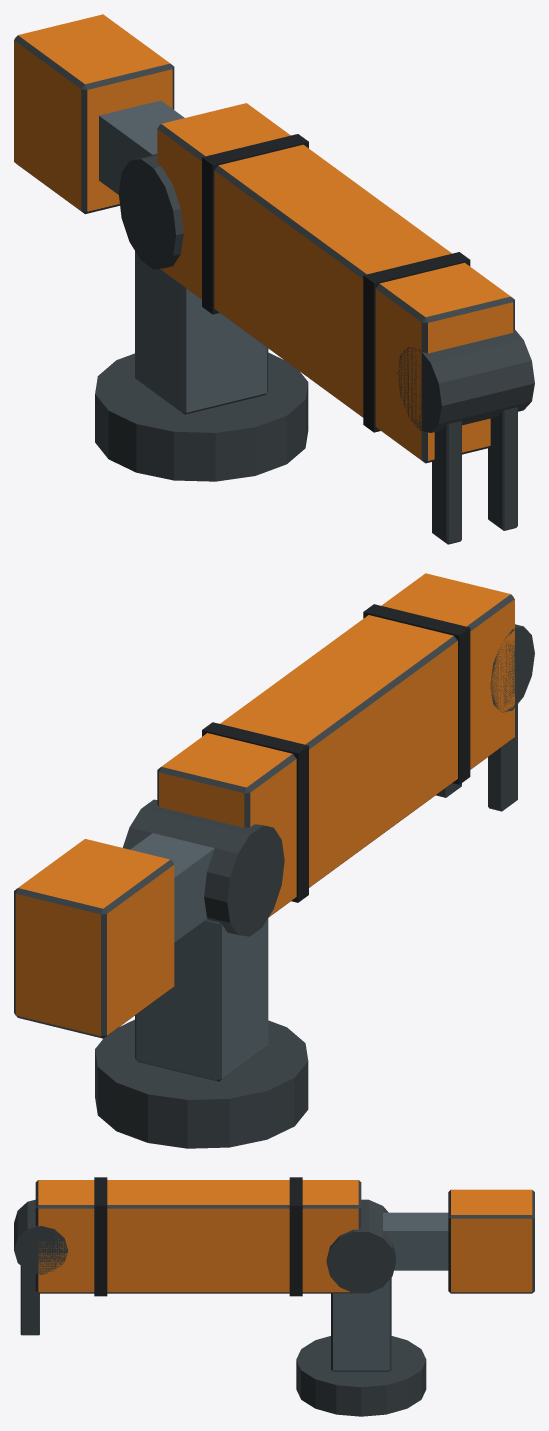
File: lab_robotic_arm_a.glb
3 renders of one model, top to bottom at view 1: azimuth 30°, elevation 25°; view 2: azimuth 150°, elevation 25°; view 3: azimuth 270°, elevation 25°, orthographic. The views are drawn at different scales.
Parts seen in each view (by area): view 1: lab_robotic_arm_a; view 2: lab_robotic_arm_a; view 3: lab_robotic_arm_a.
Boxes of the visible parts, x1=… form: lab_robotic_arm_a: x1=14, y1=14, x2=534, y2=544; lab_robotic_arm_a: x1=14, y1=573, x2=534, y2=1148; lab_robotic_arm_a: x1=14, y1=1177, x2=534, y2=1416.
Size of the model in its own units: 1.2 by 2.01 by 4.8.
